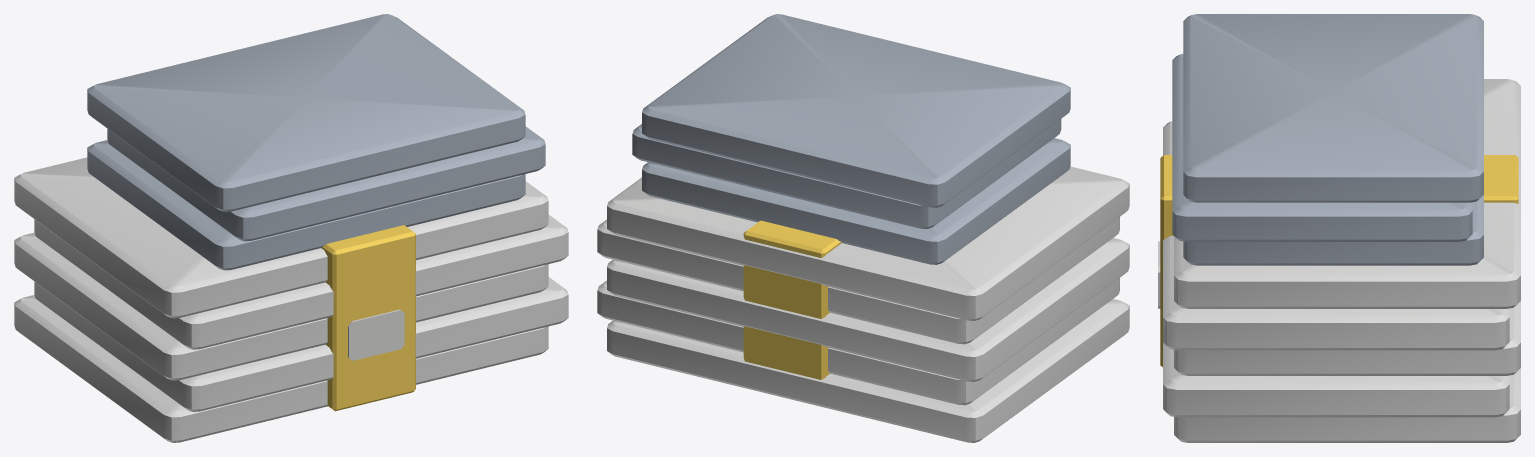
Rendered from laundrette-and-cleaning-folded-linen-stack-fe95c4cc__25543.glb.
3 renders of one model, left to right at view 1: azimuth 30°, elevation 25°; view 2: azimuth 150°, elevation 25°; view 3: azimuth 270°, elevation 25°, orthographic. The views are drawn at different scales.
Parts seen in each view (by area): view 1: folded-linen-stack; view 2: folded-linen-stack; view 3: folded-linen-stack.
Boxes of the visible parts, x1,y1,x2,y2 form: folded-linen-stack: (14, 14, 568, 442); folded-linen-stack: (597, 14, 1129, 442); folded-linen-stack: (1158, 14, 1520, 442).
Bounding box in the file's own units: 0.428 × 0.25 × 0.3138.
